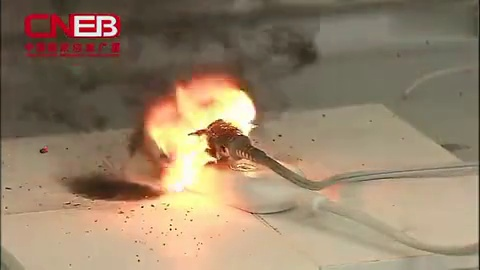fire: (120, 68, 262, 199)
